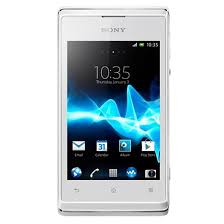sony: (53, 5, 172, 216)
